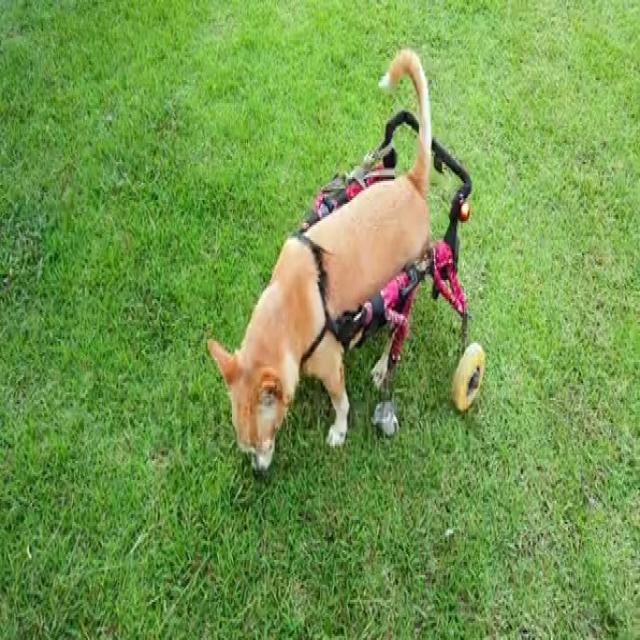injured-animals: (131, 130, 534, 521), (311, 43, 534, 419)
